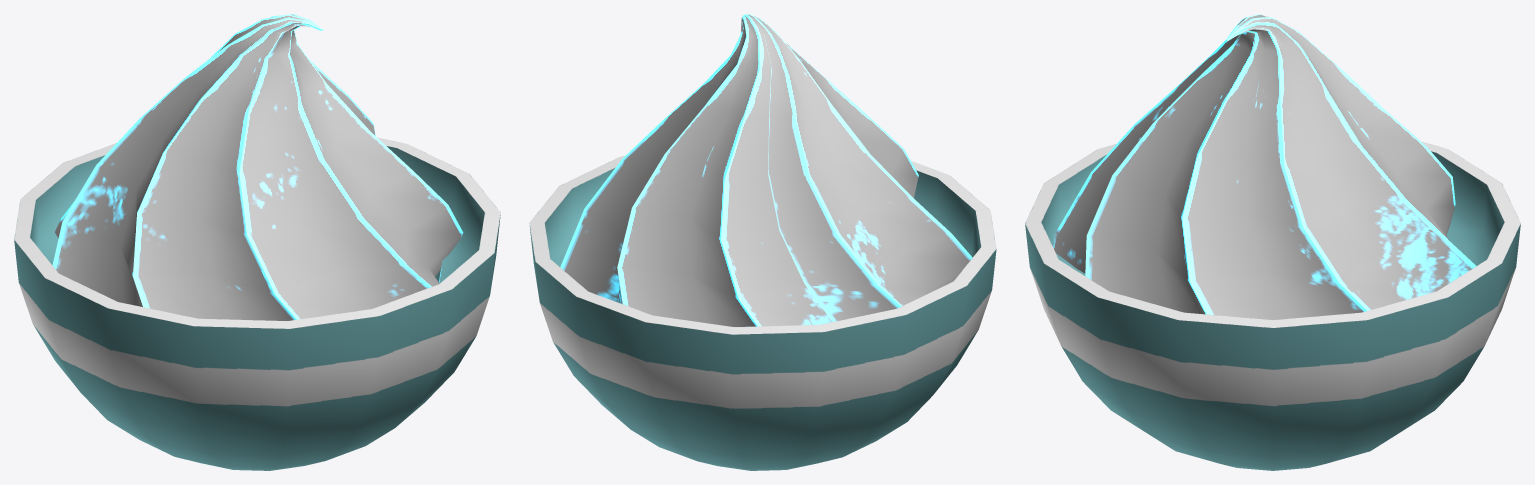
The model's file is merengue.glb.
The picture shows the model from 3 angles, left to right: view 1: azimuth 30°, elevation 25°; view 2: azimuth 150°, elevation 25°; view 3: azimuth 270°, elevation 25°; orthographic projection. The views are drawn at different scales.
Visible parts, largest first — view 1: MERENGUE; view 2: MERENGUE; view 3: MERENGUE.
Part boxes in pixels (<box>): MERENGUE: <box>14,14,500,470</box>; MERENGUE: <box>529,14,996,470</box>; MERENGUE: <box>1025,14,1520,470</box>.
Bounding box in the file's own units: 1.94 × 1.9 × 1.94.
1 material, 1 textured.
